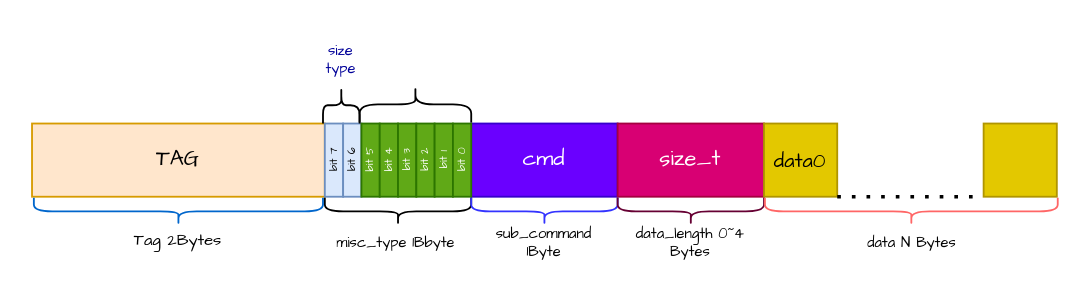
Some shapes in this 1091 by 300 pixel diagram are drawn without their labels. Each missing label, with the centre of its shape:
data N: the point at 1019,159
major_command: the point at 414,103
